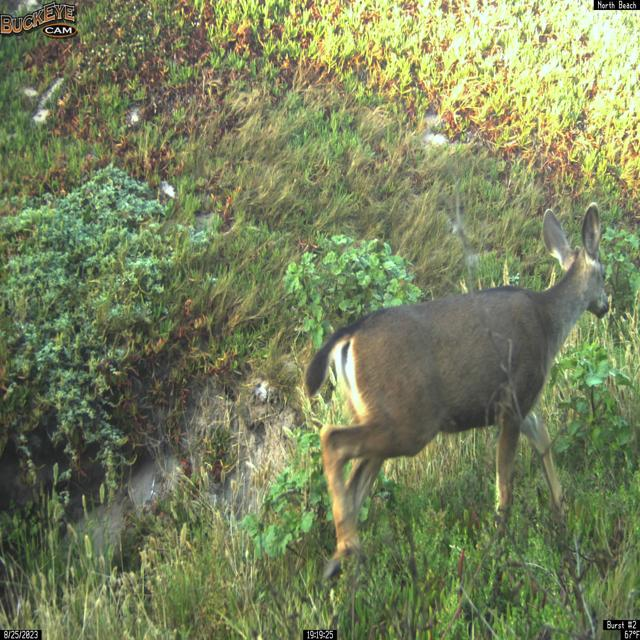deer: (304, 202, 610, 583)
